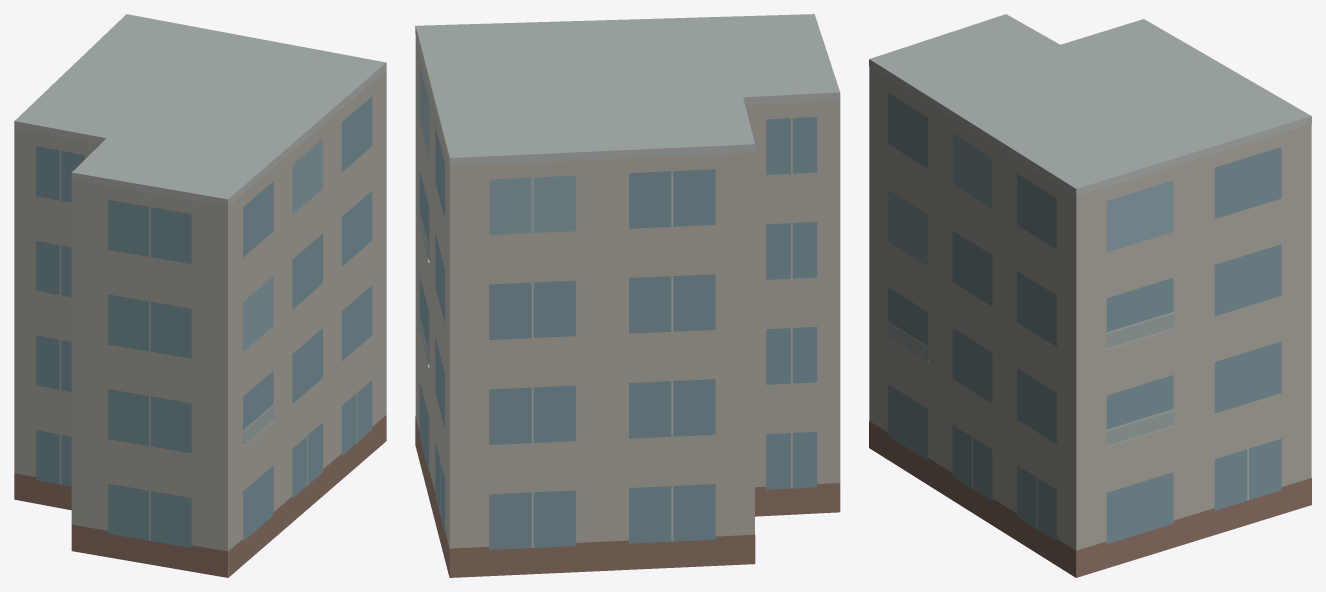
File: survey-upis-32760895.glb
The picture shows the model from 3 angles, left to right: view 1: azimuth 30°, elevation 25°; view 2: azimuth 150°, elevation 25°; view 3: azimuth 270°, elevation 25°; orthographic projection. The views are drawn at different scales.
Visible parts, largest first — view 1: survey-upis-32760895.tmp; view 2: survey-upis-32760895.tmp; view 3: survey-upis-32760895.tmp.
Boxes of the visible parts, x1,y1,x2,y2 form: survey-upis-32760895.tmp: [14, 14, 386, 577]; survey-upis-32760895.tmp: [415, 14, 840, 577]; survey-upis-32760895.tmp: [869, 14, 1311, 577].
Size of the model in its own units: 11.97 by 12.4 by 12.8.
